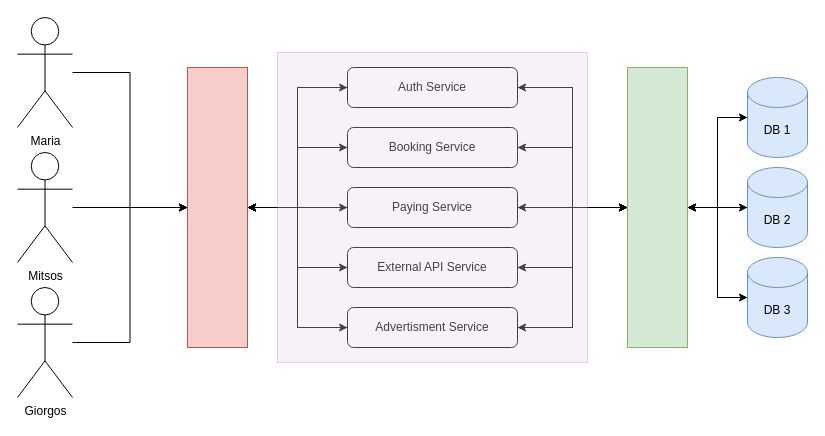
This 825x436 diagram has some shape labels left out. The shapes that lost their labels are listed below. From the top down, each one's box as (x1, y1, x2, y2) in pixels, then its label:
(186, 66, 248, 348): UI
(626, 66, 688, 348): Core Lib
